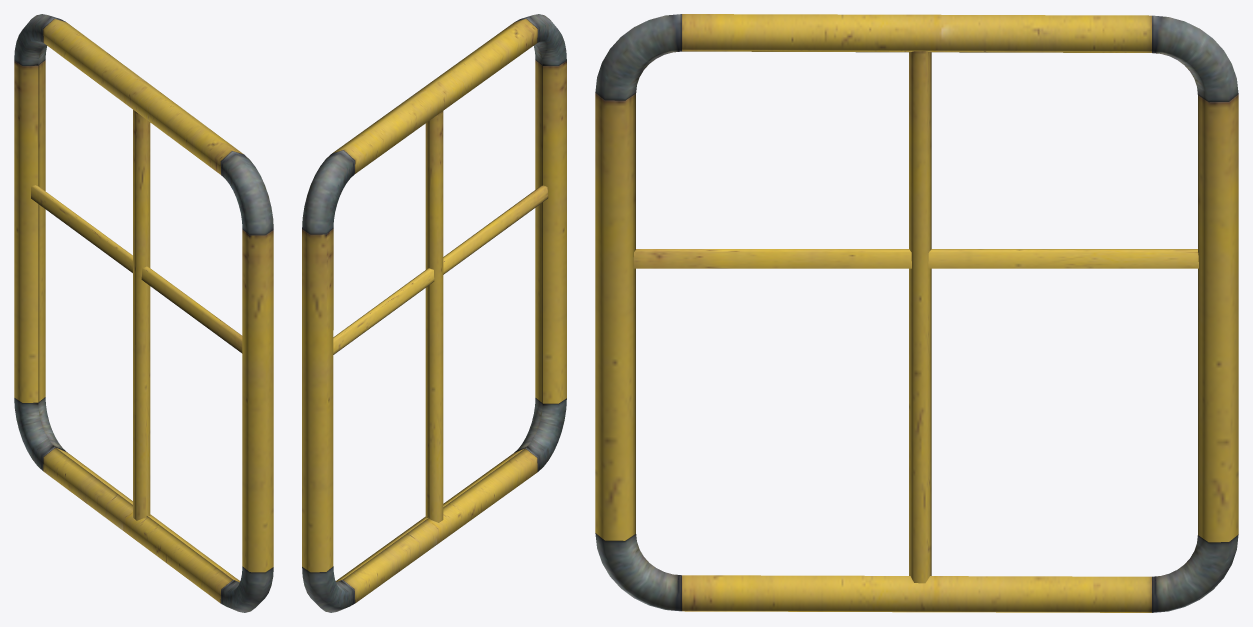
The model's file is Railing_03.fbx.
3 renders of one model, left to right at view 1: azimuth 30°, elevation 25°; view 2: azimuth 150°, elevation 25°; view 3: azimuth 270°, elevation 25°, orthographic. The views are drawn at different scales.
Parts seen in each view (by area): view 1: Railing_03; view 2: Railing_03; view 3: Railing_03.
Part boxes in pixels (box(x1,y1,x2,y2)): Railing_03: box(14, 14, 273, 612); Railing_03: box(302, 14, 566, 612); Railing_03: box(595, 14, 1238, 612).
Bounding box in the file's own units: 5.94 × 97.99 × 95.6.
1 material, 1 textured.
